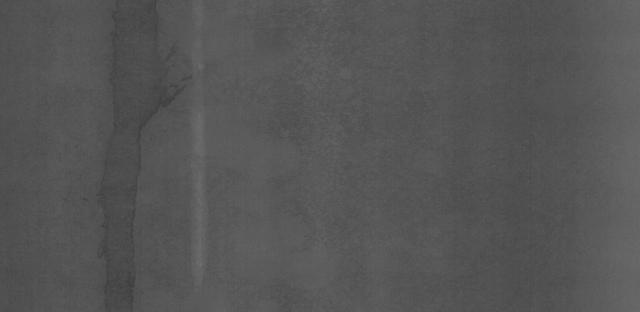water_spot: (82, 22, 184, 312)
